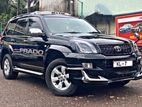car: (1, 10, 142, 96)
